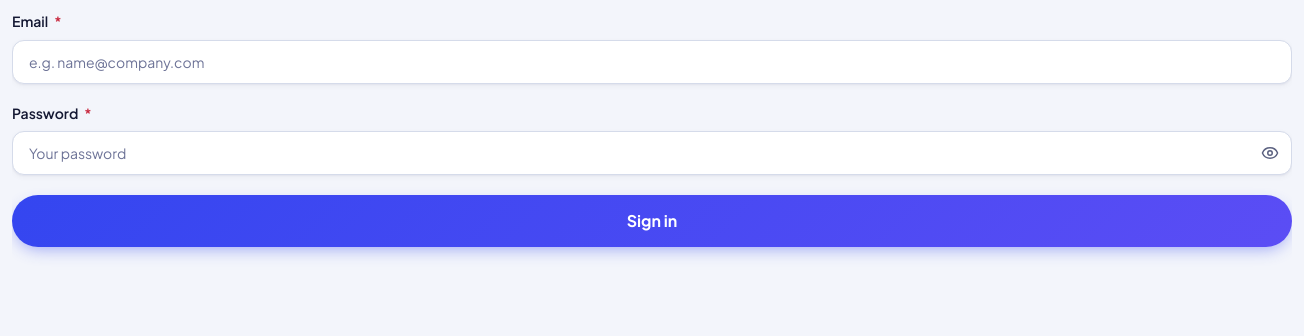
Scenario: LoginForm › shows the translated message for a wrong password
Type "sara@prime.test" into the field with test id "login-email" at (652, 62), box x1=12 y1=40 x2=1292 y2=84
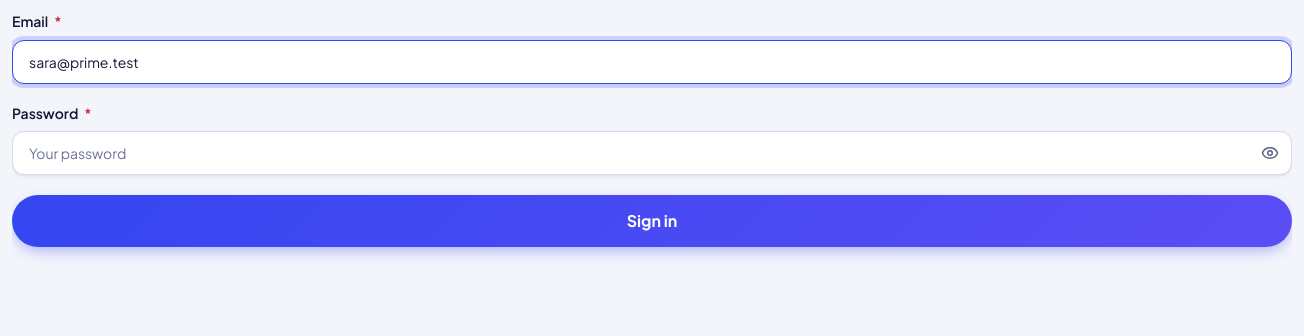
Type "not-the-password" into the password field with test id "login-password" at (652, 153), box x1=12 y1=131 x2=1292 y2=175
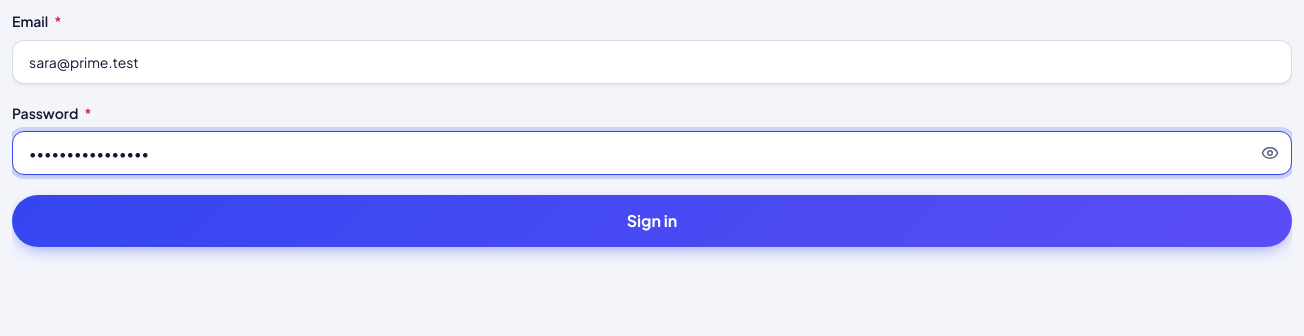
Click the button with test id "login-submit" at (652, 221), box x1=12 y1=195 x2=1292 y2=247
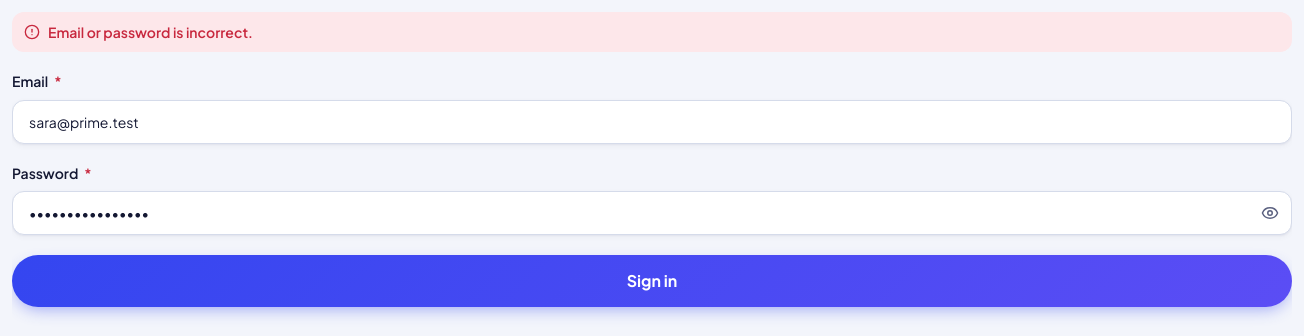
Expected: the button with test id "login-submit" is enabled, x1=12 y1=255 x2=1292 y2=307
Expected: the message reads "Email or password is incorrect.", x1=48 y1=23 x2=253 y2=41
